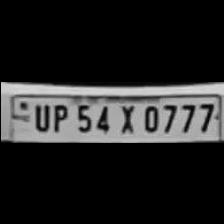0: (138, 100, 160, 132)
4: (92, 100, 112, 132)
5: (70, 99, 92, 133)
7: (194, 98, 216, 130), (176, 100, 196, 132), (160, 100, 176, 132)
P: (48, 100, 68, 132)
U: (29, 99, 49, 130)
X: (113, 100, 137, 132)
